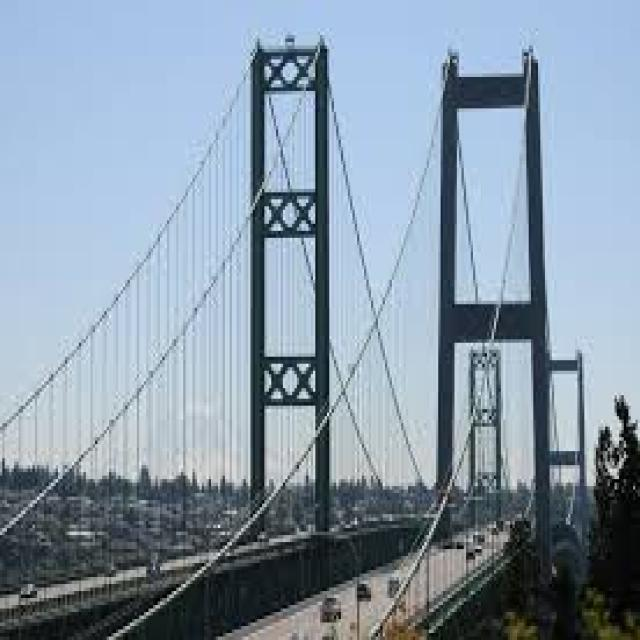Bridges: (16, 16, 596, 621)
